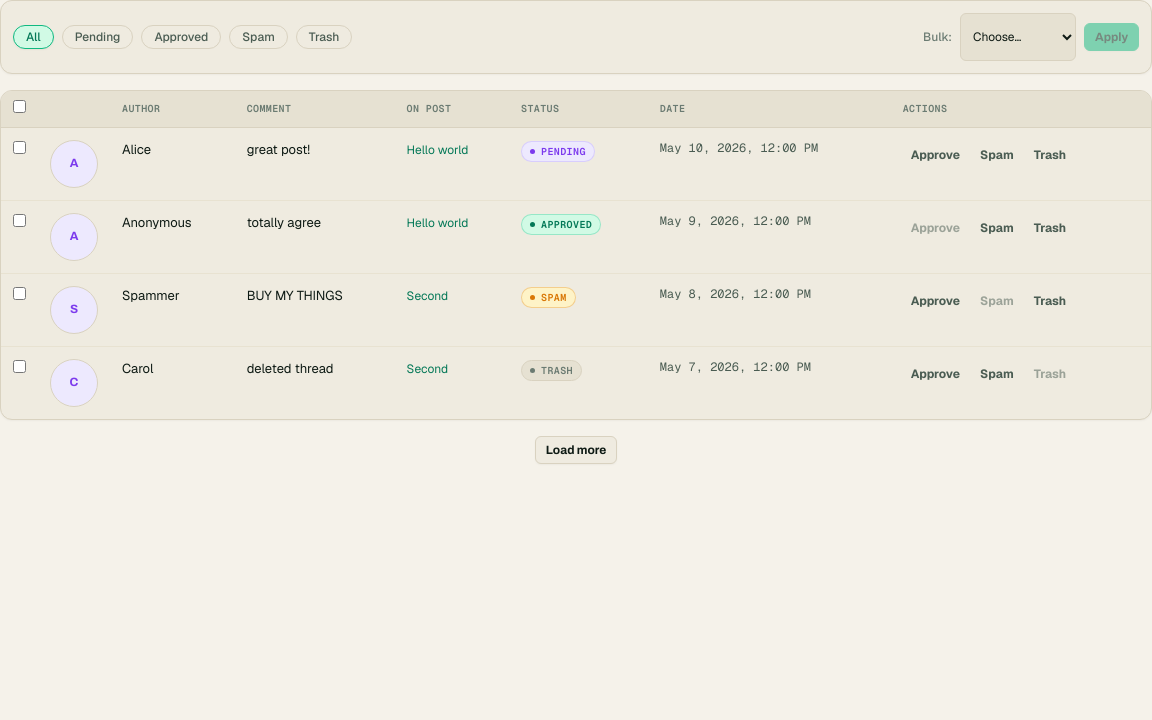
CommentListClient › appends comments returned by the fetcher when load-more is clicked
The width and height of the screenshot is (1152, 720).
Click the button "Load more".
click(576, 450)  # box [535, 436, 617, 464]
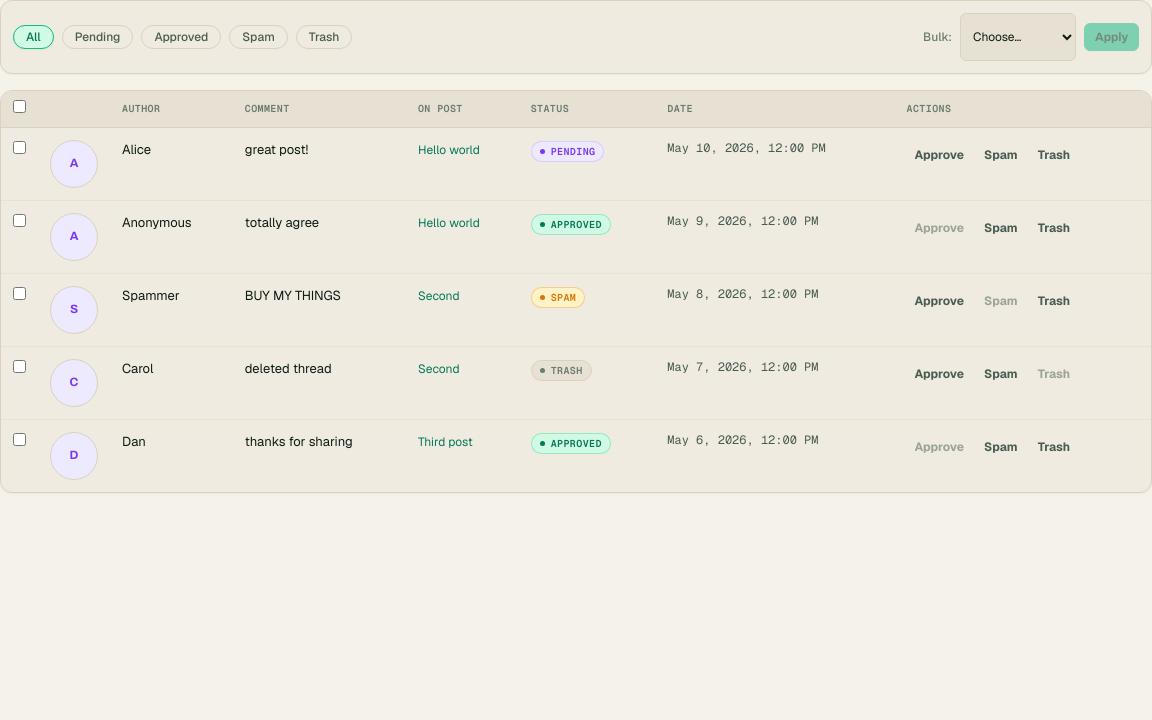
Result: the link "thanks for sharing" is shown at [245, 432, 353, 450]
